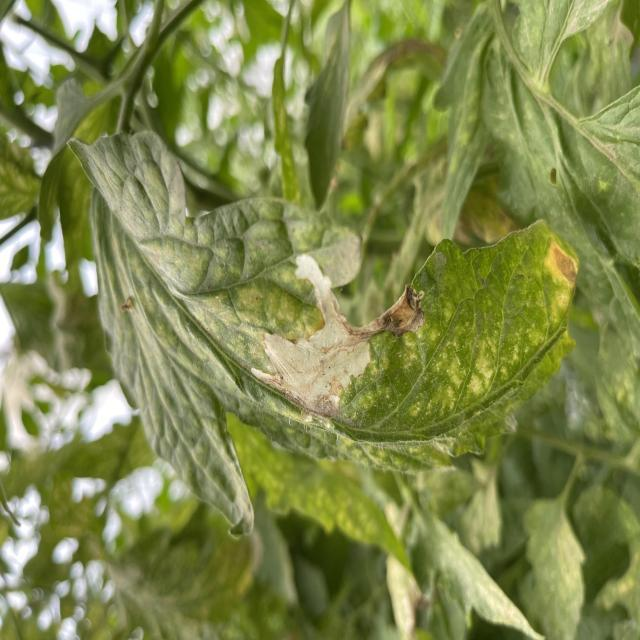Tuta absoluta: (245, 253, 399, 424)
